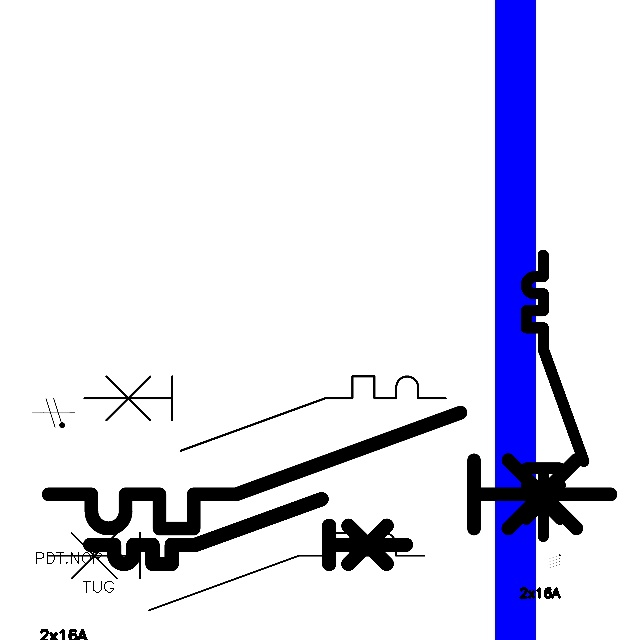interruptor_termomagnetico: (34, 398, 624, 543), (39, 523, 434, 619), (75, 367, 455, 460), (82, 491, 414, 572), (519, 248, 591, 544)
